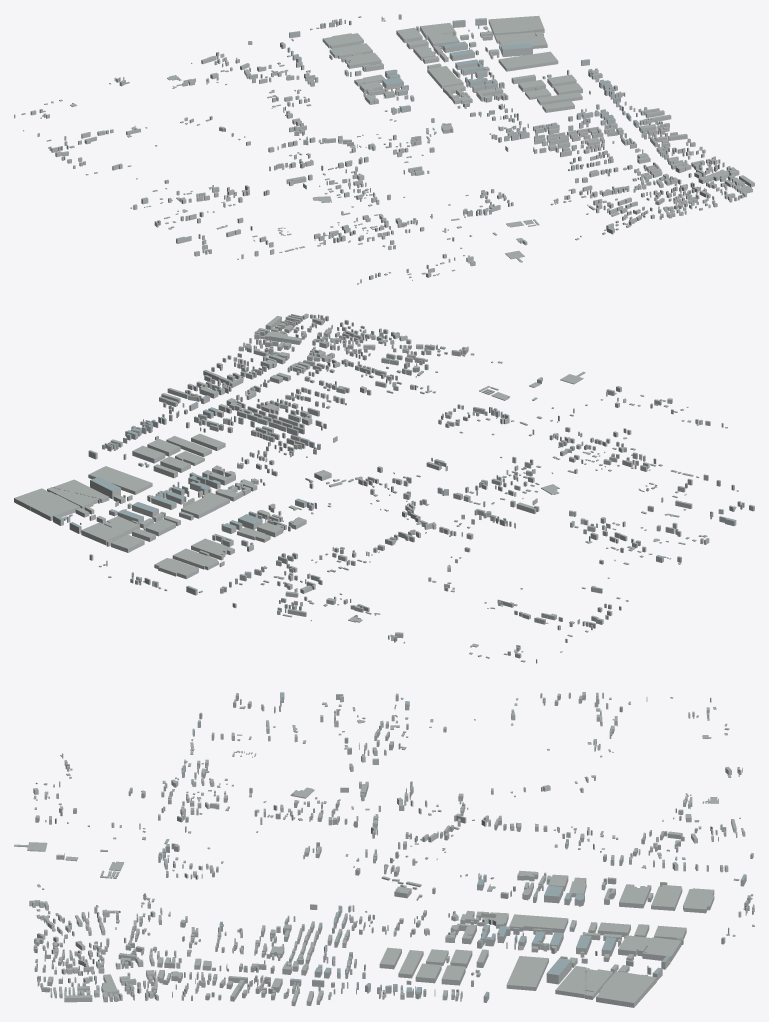
The model's file is far.glb.
3 views of the same model, one above another, from view 1: azimuth 30°, elevation 25°; view 2: azimuth 150°, elevation 25°; view 3: azimuth 270°, elevation 25° (orthographic). The views are drawn at different scales.
Bounding box in the file's own units: 2149 × 29.88 × 2164.
